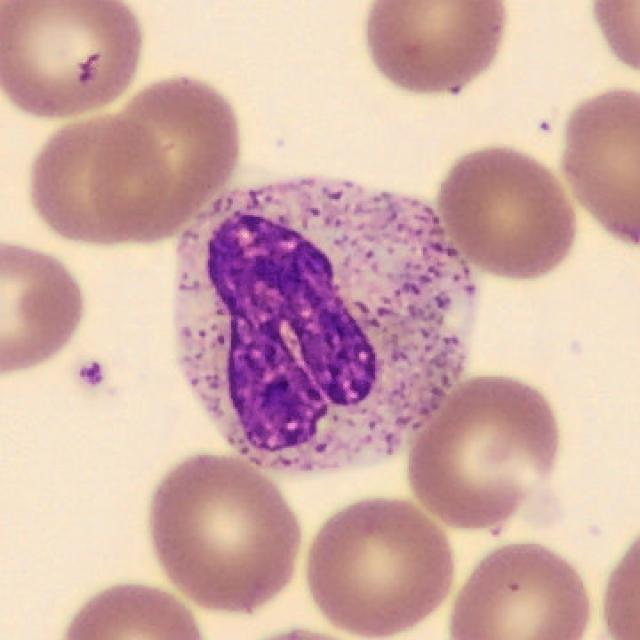Neutrofilo segmentado: (174, 181, 476, 473)
